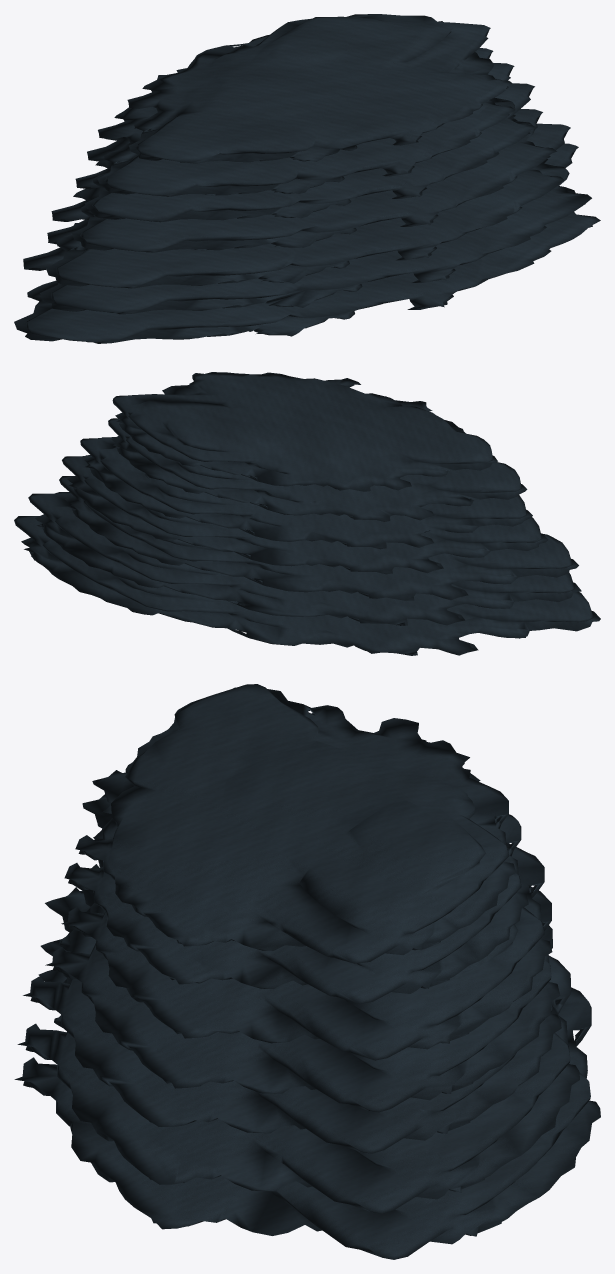
The model's file is slate-v0-full-lod0.gltf.
The picture shows the model from 3 angles, top to bottom: view 1: azimuth 30°, elevation 25°; view 2: azimuth 150°, elevation 25°; view 3: azimuth 270°, elevation 25°; orthographic projection. The views are drawn at different scales.
Parts seen in each view (by area): view 1: slate-v0-full-lod0; view 2: slate-v0-full-lod0; view 3: slate-v0-full-lod0.
Boxes of the visible parts, x1,y1,x2,y2 form: slate-v0-full-lod0: (14,14,600,343); slate-v0-full-lod0: (14,372,600,655); slate-v0-full-lod0: (14,684,600,1259).
Size of the model in its own units: 1.96 by 0.5294 by 1.11.
1 material, 1 textured.
